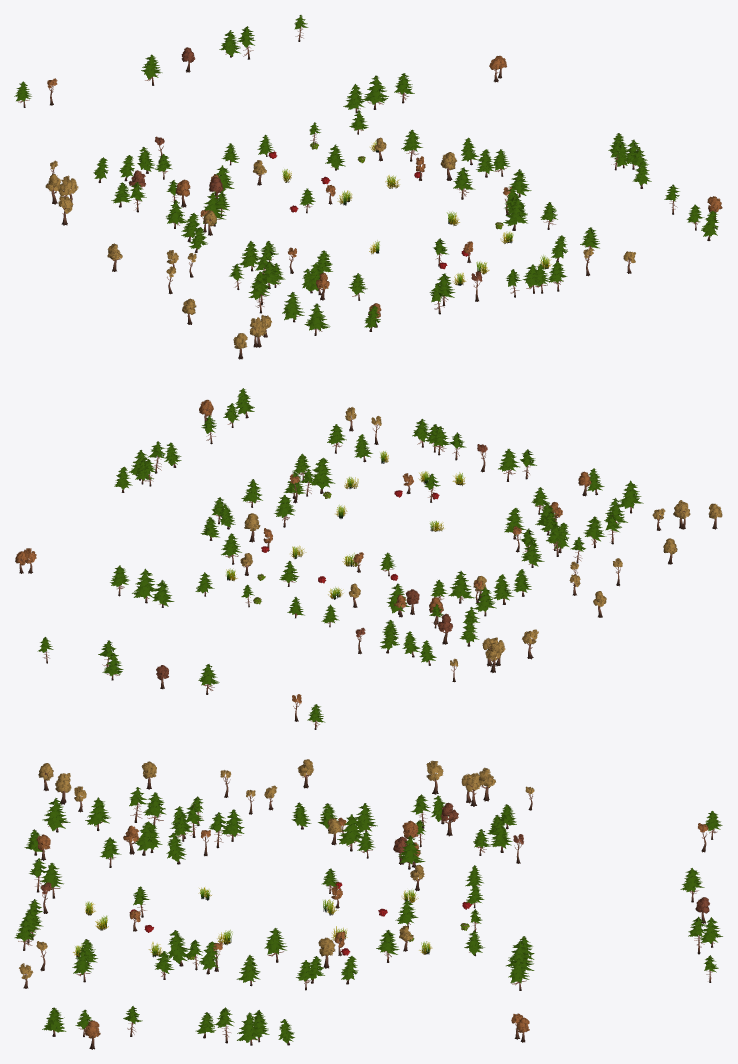
The model's file is Nature.glb.
The picture shows the model from 3 angles, top to bottom: view 1: azimuth 30°, elevation 25°; view 2: azimuth 150°, elevation 25°; view 3: azimuth 270°, elevation 25°; orthographic projection. The views are drawn at different scales.
Parts seen in each view (by area): view 1: no part large enough to name; view 2: no part large enough to name; view 3: KOuter_042.
Part boxes in pixels (x1,y1,x2,y2): KOuter_042: (337, 814, 363, 851).
Size of the model in its own units: 94.57 by 6.03 by 106.
Materials: 21 (21 with a texture image).
